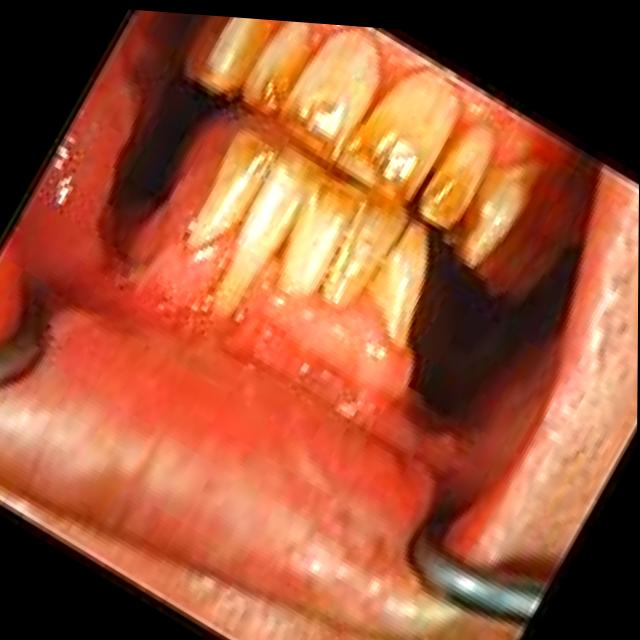tooth-discoloration: (342, 107, 433, 199), (282, 65, 363, 157), (458, 178, 524, 266), (420, 165, 478, 226), (245, 52, 297, 112)
